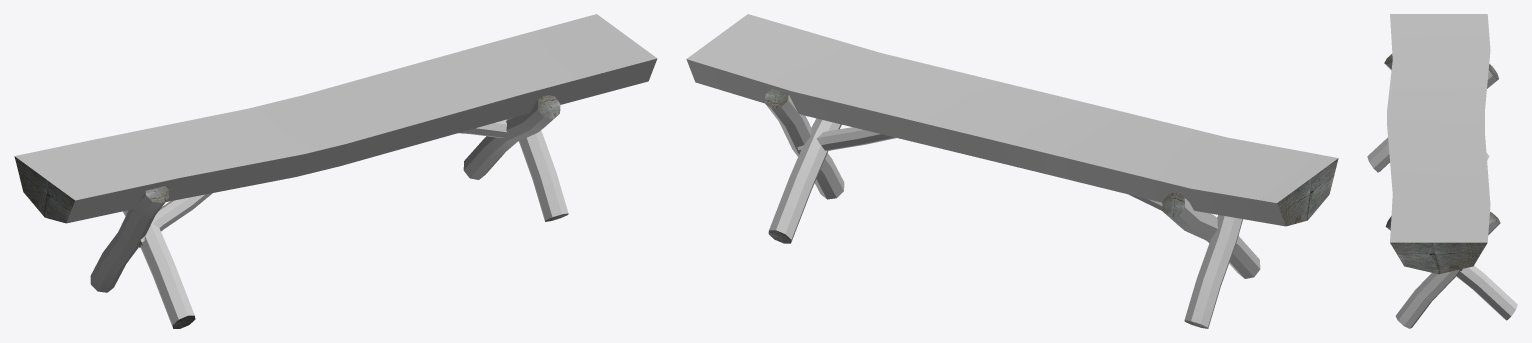
File: v-bench2.fbx
The picture shows the model from 3 angles, left to right: view 1: azimuth 30°, elevation 25°; view 2: azimuth 150°, elevation 25°; view 3: azimuth 270°, elevation 25°; orthographic projection. The views are drawn at different scales.
Parts seen in each view (by area): view 1: Mesh; view 2: Mesh; view 3: Mesh.
Part boxes in pixels (box(x1,y1,x2,y2)): Mesh: box(14, 14, 657, 328); Mesh: box(686, 14, 1338, 328); Mesh: box(1367, 14, 1517, 328).
Size of the model in its own units: 287 by 70.71 by 79.82.
